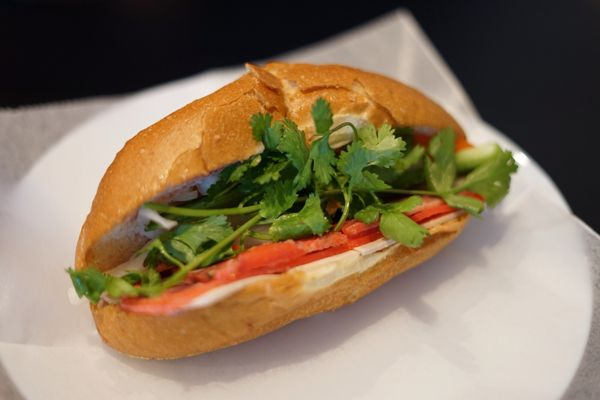soup: (68, 60, 515, 364)
